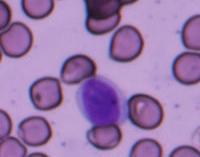L: (76, 74, 129, 126)
